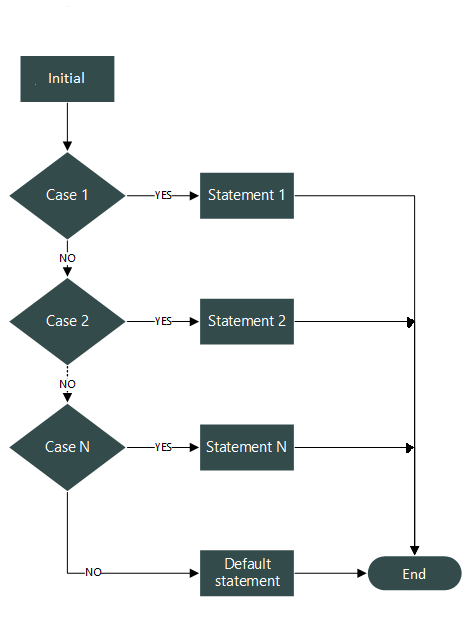arrow: (292, 190, 421, 556), (63, 487, 199, 579), (293, 316, 416, 327), (292, 442, 415, 452), (124, 440, 201, 455), (293, 567, 368, 578), (120, 191, 195, 202), (121, 317, 202, 327), (61, 361, 77, 404), (61, 102, 73, 154), (59, 237, 74, 277)
decision: (7, 402, 126, 494), (7, 275, 128, 365), (6, 151, 128, 239)
process: (196, 295, 298, 349), (196, 545, 298, 599), (16, 53, 118, 105), (197, 169, 296, 221), (197, 422, 296, 472)
terminator: (366, 554, 463, 591)
text: (215, 556, 280, 587), (202, 437, 287, 455), (205, 185, 287, 203), (206, 311, 288, 329), (42, 184, 89, 203), (42, 437, 93, 454), (43, 312, 92, 328), (45, 69, 87, 85), (400, 566, 428, 581), (150, 187, 173, 202), (57, 250, 79, 264), (151, 313, 172, 326), (153, 440, 172, 454), (82, 565, 104, 577), (58, 376, 77, 389)
